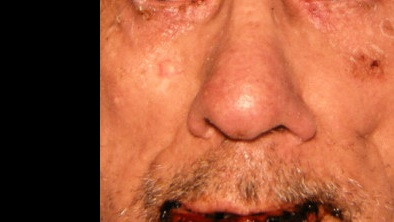SJS-TEN: (153, 191, 353, 222)
